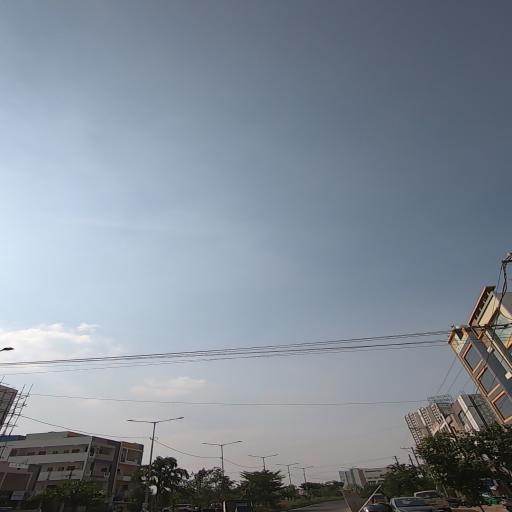Street_light: (158, 415, 189, 427), (123, 417, 155, 425), (201, 441, 223, 449), (224, 439, 242, 448), (266, 452, 282, 462), (246, 453, 262, 460)
